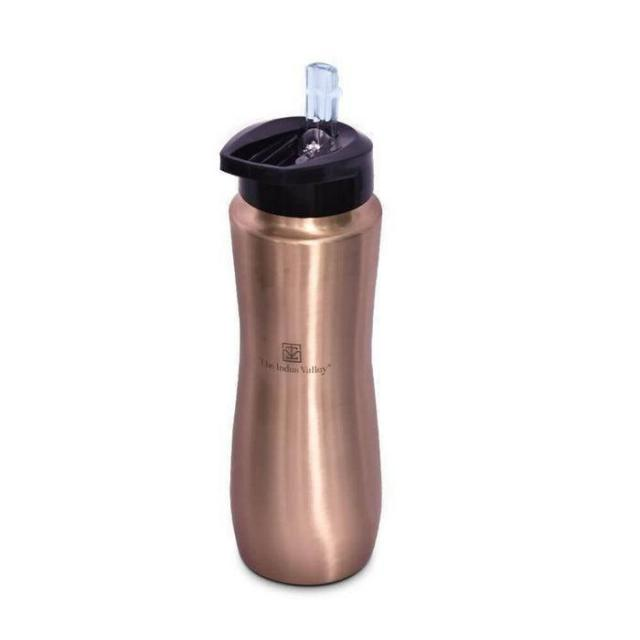gym bottle: (218, 62, 386, 589)
